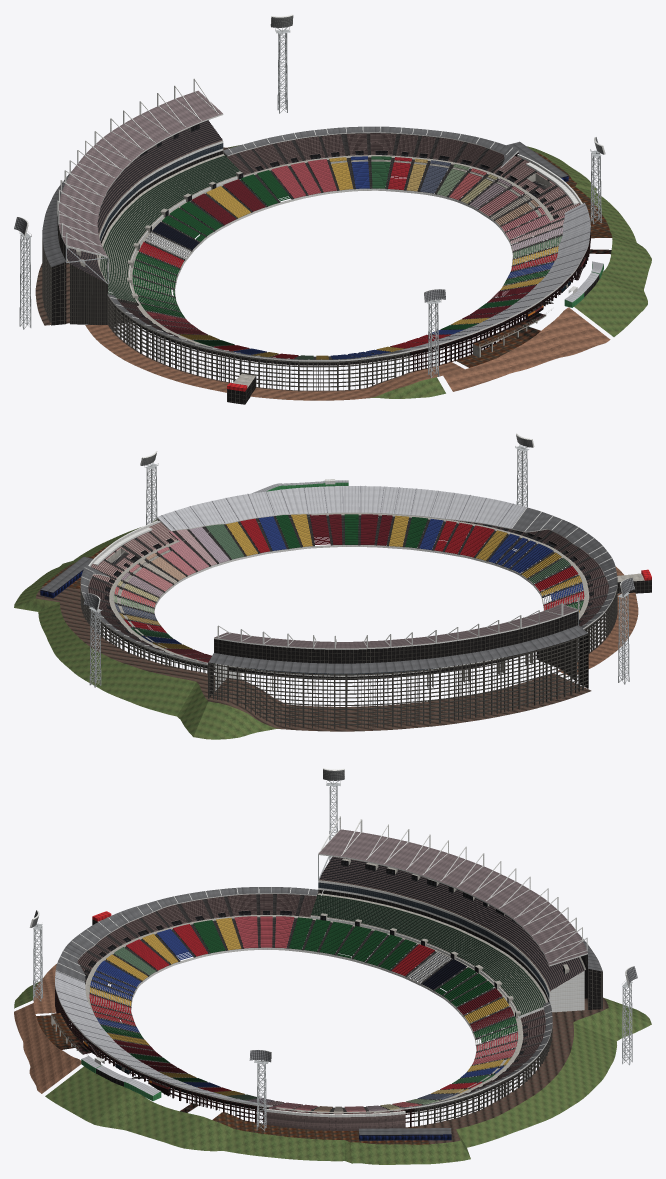
Rendered from waverley_park.glb.
3 views of the same model, one above another, from view 1: azimuth 30°, elevation 25°; view 2: azimuth 150°, elevation 25°; view 3: azimuth 270°, elevation 25° (orthographic). The views are drawn at different scales.
Parts seen in each view (by area): view 1: WaverleyPark; view 2: WaverleyPark; view 3: WaverleyPark.
Part boxes in pixels (box(x1,y1,x2,y2)): WaverleyPark: box(14, 14, 651, 404); WaverleyPark: box(14, 433, 651, 739); WaverleyPark: box(14, 768, 651, 1164).
Size of the model in its own units: 308 by 58.9 by 294.
Materials: 67 (67 with a texture image).
